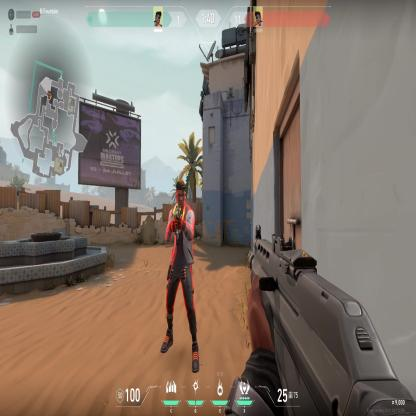enemy: (160, 177, 201, 374)
